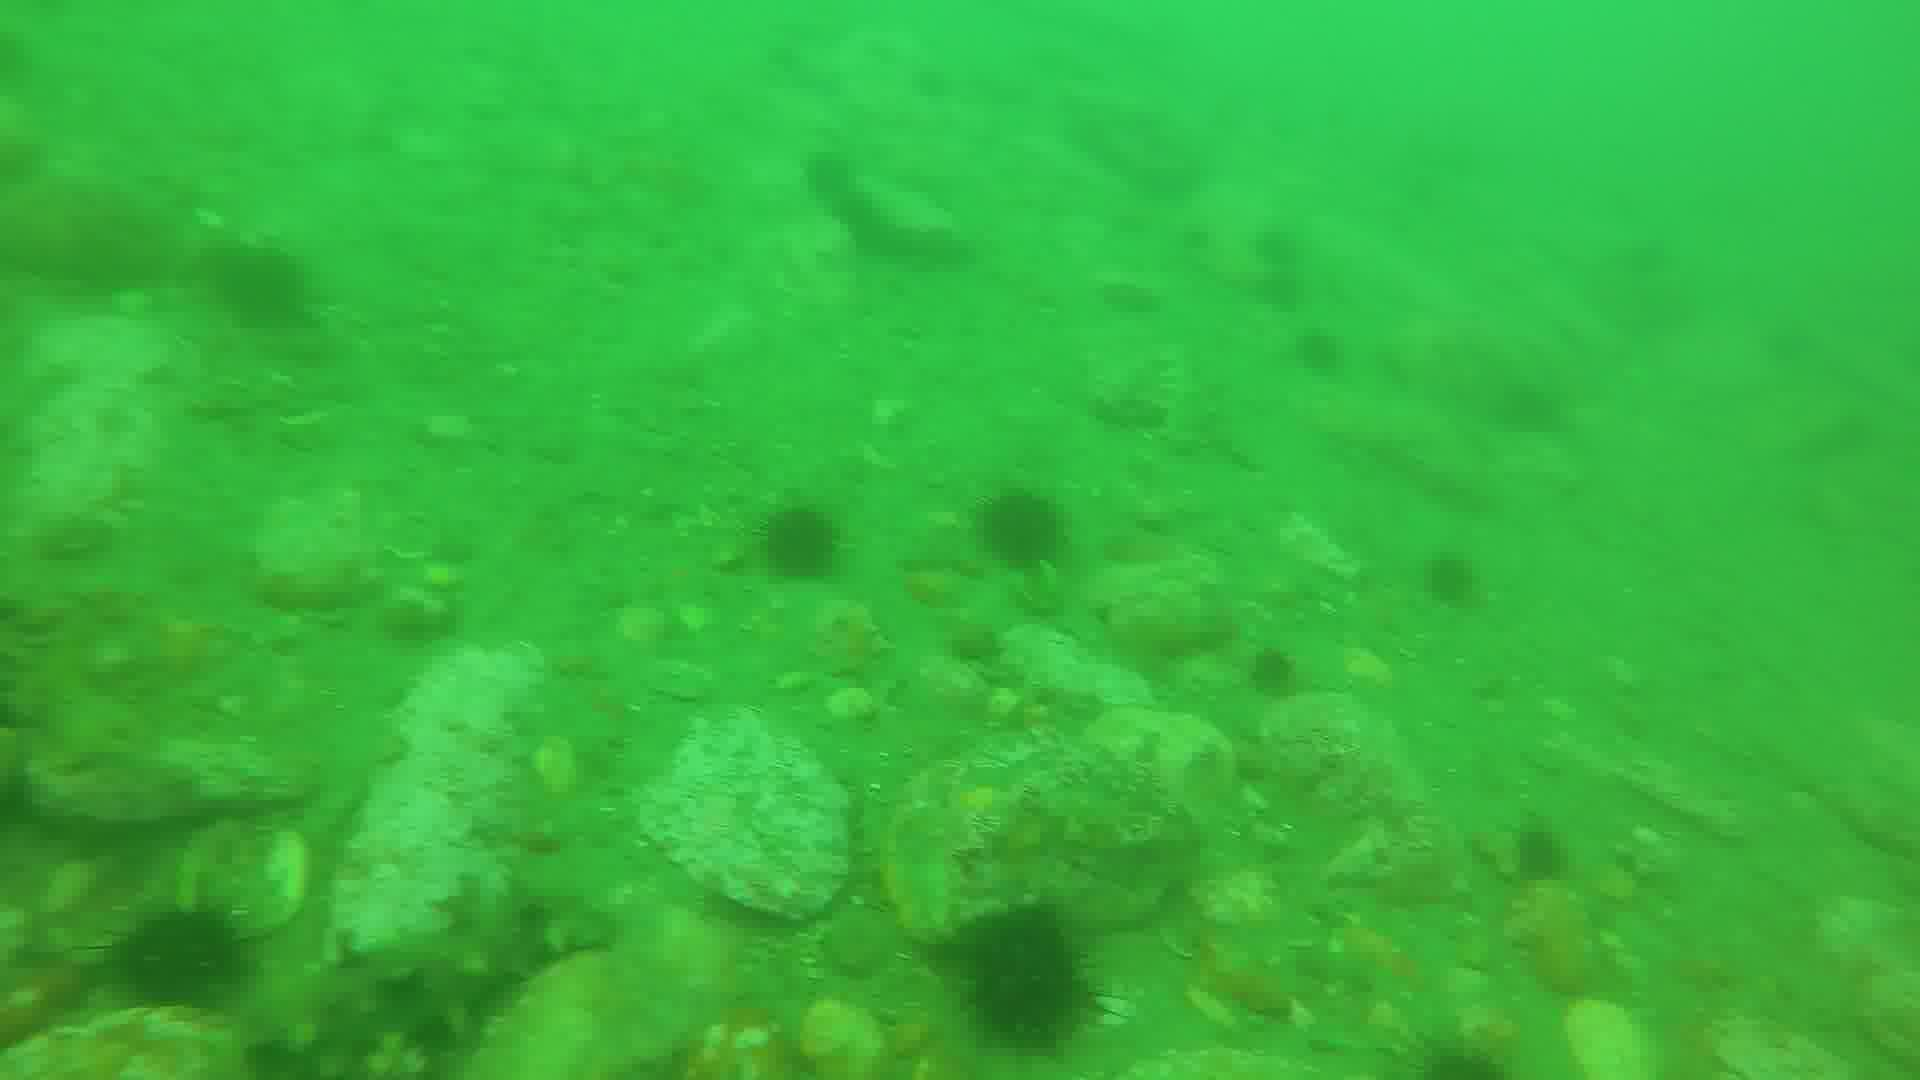echinus: (953, 913, 1088, 1051), (102, 894, 251, 1007), (975, 489, 1068, 578), (760, 512, 844, 585), (1404, 1042, 1514, 1080)
holothurian: (225, 905, 616, 1080)
